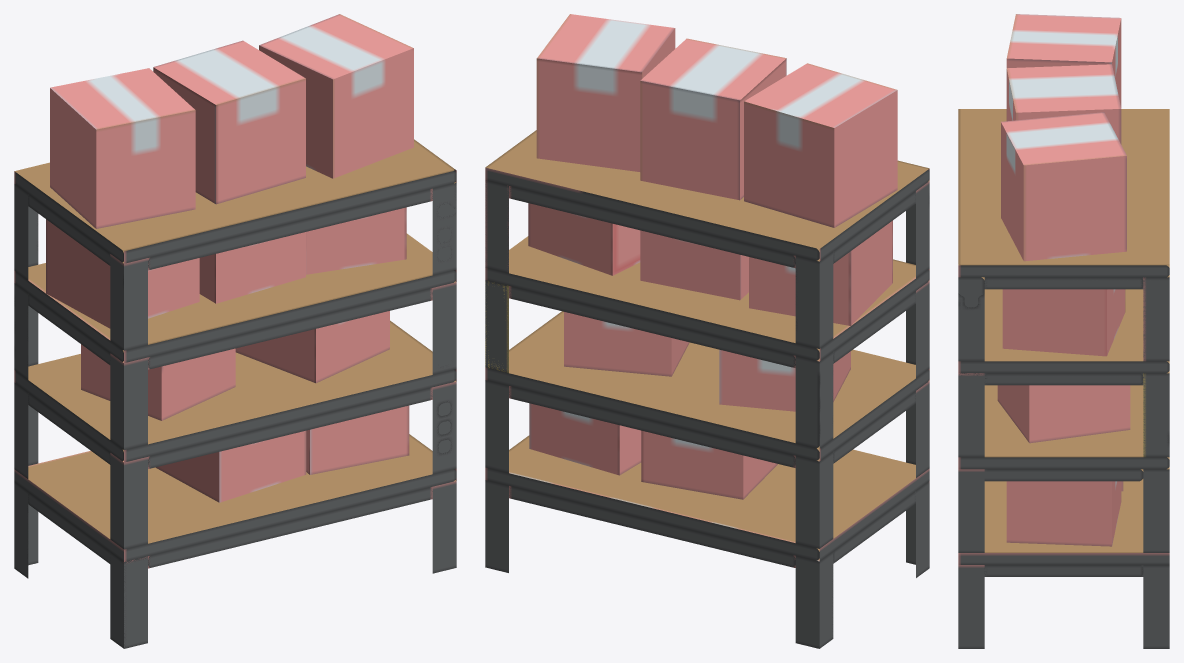
The model's file is Regal_1.fbx.
The picture shows the model from 3 angles, left to right: view 1: azimuth 30°, elevation 25°; view 2: azimuth 150°, elevation 25°; view 3: azimuth 270°, elevation 25°; orthographic projection. The views are drawn at different scales.
Visible parts, largest first — view 1: cube_21, cube_54, cube_20, cube_53, cube_52, cube_18, cube_19, cube_55, cube_60, cube_59, cube_58, cube_56 (+26 smaller); view 2: cube_20, cube_54, cube_21, cube_52, cube_53, cube_18, cube_19, cube_55, cube_60, cube_59, cube_61, cube_57 (+26 smaller); view 3: cube_18, cube_52, cube_20, cube_57, cube_61, cube_21, cube_19, cube_59, cube_53, cube_54, cube_33, cube_41 (+10 smaller).
Part boxes in pixels (left/top/right/bottom): cube_21: left=14, top=434, right=456, bottom=561; cube_54: left=50, top=68, right=195, bottom=228; cube_20: left=14, top=320, right=456, bottom=462; cube_53: left=153, top=40, right=305, bottom=204; cube_52: left=259, top=14, right=413, bottom=178; cube_18: left=14, top=139, right=456, bottom=263; cube_19: left=14, top=233, right=456, bottom=362; cube_55: left=46, top=219, right=199, bottom=328; cube_60: left=155, top=430, right=306, bottom=502; cube_59: left=235, top=311, right=389, bottom=383; cube_58: left=81, top=344, right=235, bottom=420; cube_56: left=199, top=232, right=305, bottom=303; cube_20: left=485, top=311, right=929, bottom=461; cube_54: left=744, top=63, right=897, bottom=227; cube_21: left=485, top=435, right=929, bottom=561; cube_52: left=536, top=14, right=675, bottom=171; cube_53: left=640, top=38, right=786, bottom=200; cube_18: left=485, top=130, right=929, bottom=261; cube_19: left=485, top=236, right=929, bottom=361; cube_55: left=749, top=220, right=892, bottom=325; cube_60: left=641, top=430, right=777, bottom=499; cube_59: left=564, top=312, right=689, bottom=376; cube_61: left=529, top=403, right=641, bottom=475; cube_57: left=528, top=203, right=640, bottom=275; cube_18: left=958, top=109, right=1169, bottom=277; cube_52: left=1001, top=112, right=1126, bottom=261; cube_20: left=958, top=385, right=1169, bottom=469; cube_57: left=1002, top=289, right=1125, bottom=356; cube_61: left=1006, top=481, right=1121, bottom=546; cube_21: left=958, top=469, right=1169, bottom=564; cube_19: left=958, top=277, right=1169, bottom=373; cube_59: left=997, top=385, right=1130, bottom=443; cube_53: left=1006, top=64, right=1121, bottom=144; cube_54: left=1006, top=14, right=1121, bottom=107; cube_33: left=958, top=373, right=984, bottom=457; cube_41: left=1143, top=373, right=1169, bottom=457.
Bounding box in the file's own units: 87.5 × 125 × 50.
Materials: 1 (1 with a texture image).
